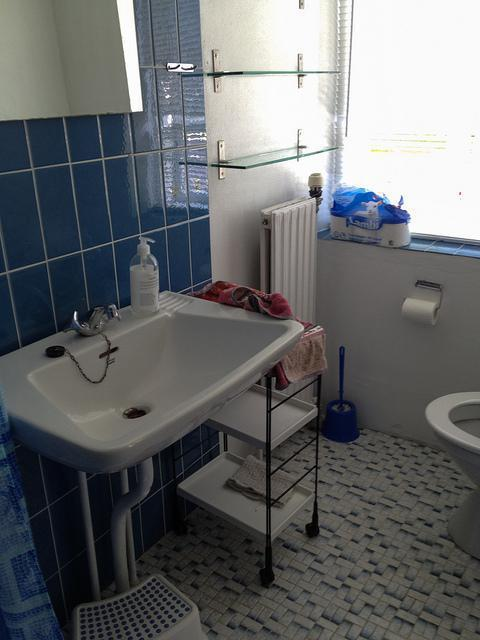Lavamanos: (0, 253, 310, 482)
